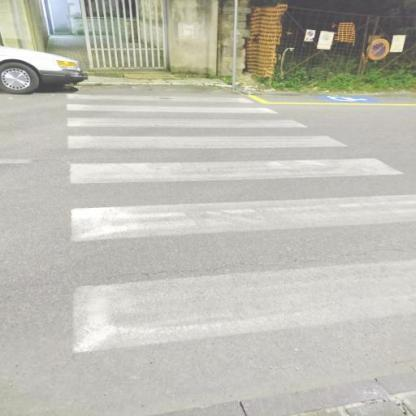crosswalk: (50, 132, 409, 190), (61, 93, 285, 117)
